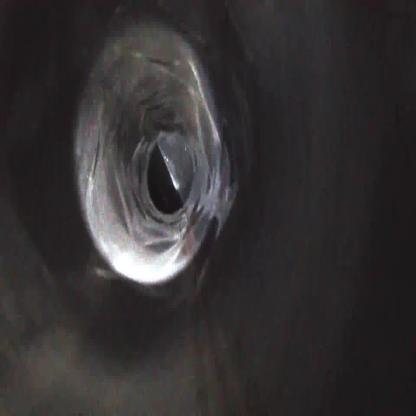Crack: (73, 23, 236, 286)
